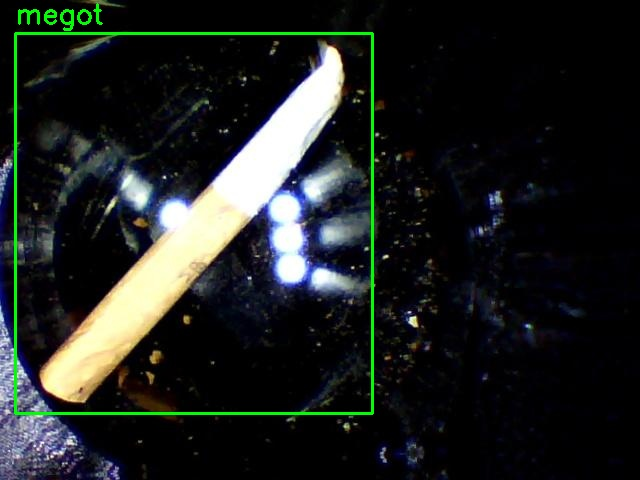megot: (15, 33, 372, 413)
